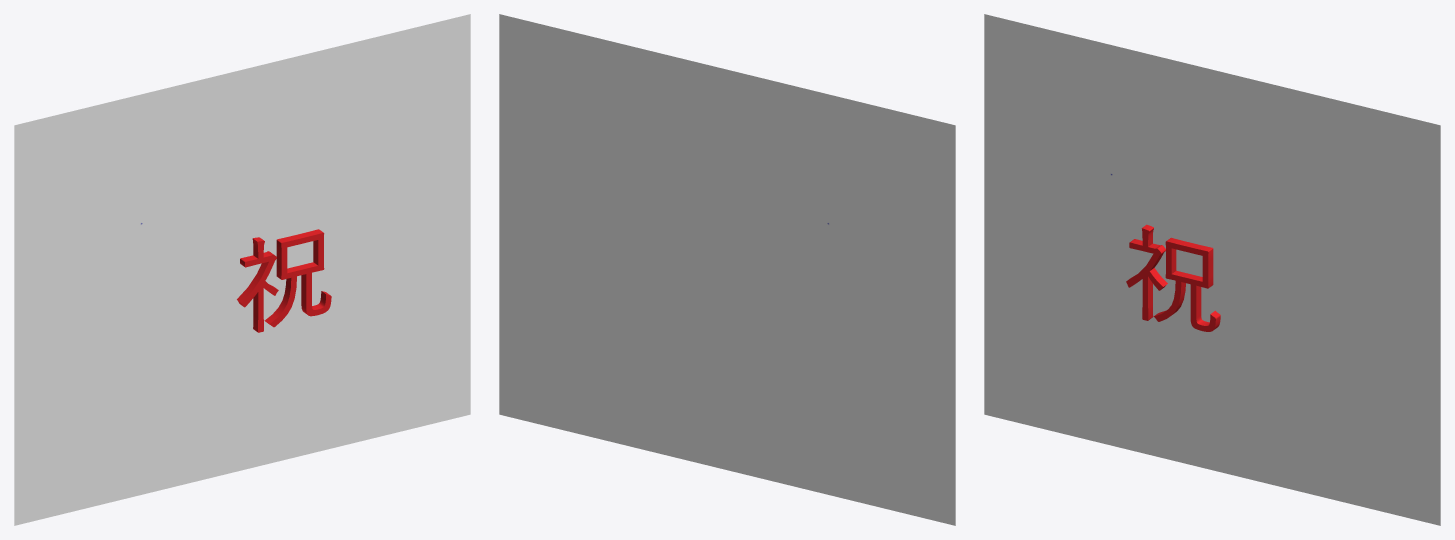
File: syuku.fbx
3 views of the same model, side by side, from view 1: azimuth 30°, elevation 25°; view 2: azimuth 150°, elevation 25°; view 3: azimuth 330°, elevation 25° (orthographic).
Parts seen in each view (by area): view 1: root, node_id39; view 2: root; view 3: root, node_id39.
Boxes of the visible parts, x1,y1,x2,y2 form: root: [14, 14, 470, 525]; node_id39: [237, 229, 331, 332]; root: [499, 14, 955, 525]; root: [984, 14, 1440, 525]; node_id39: [1126, 224, 1220, 331].
Size of the model in its own units: 1.63 by 1.37 by 0.2651.
Materials: 2 (2 with a texture image).
